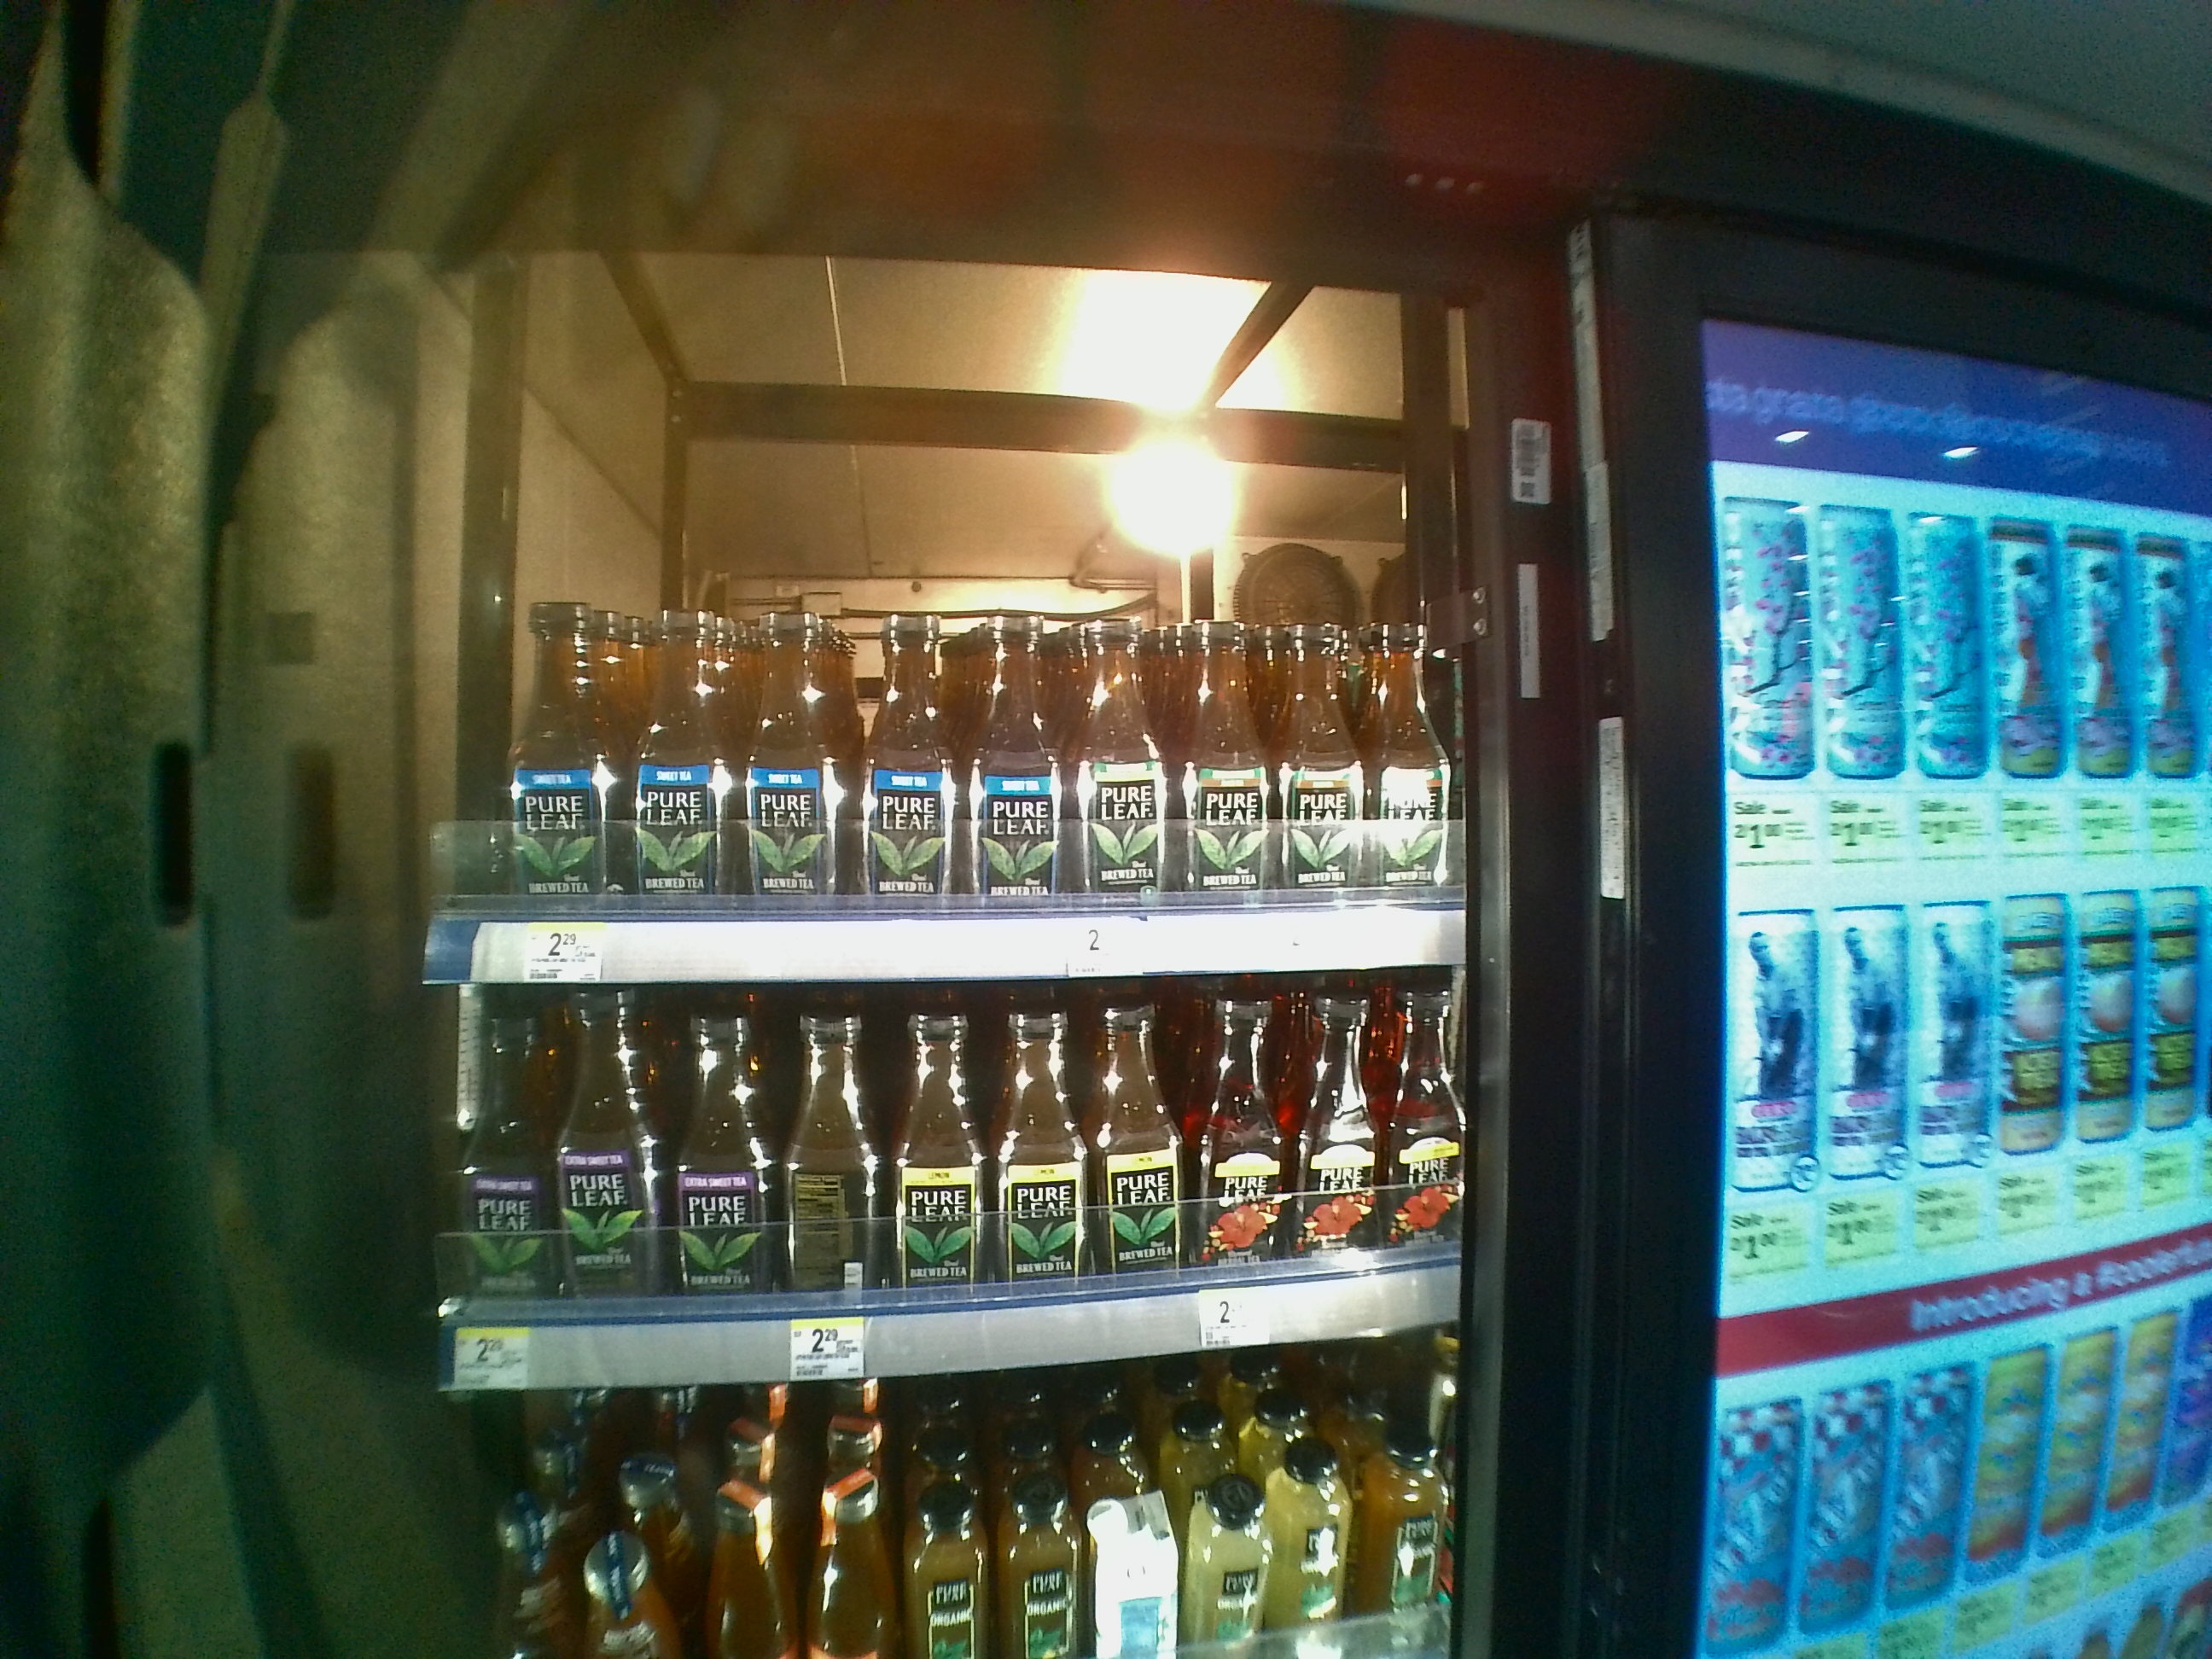shelf: (421, 319, 1463, 983), (420, 995, 1470, 1389)
